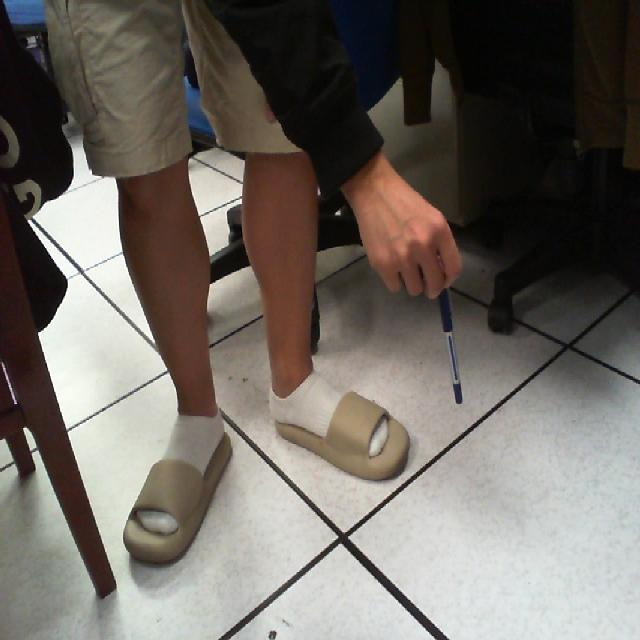Pen: (426, 258, 482, 432)
